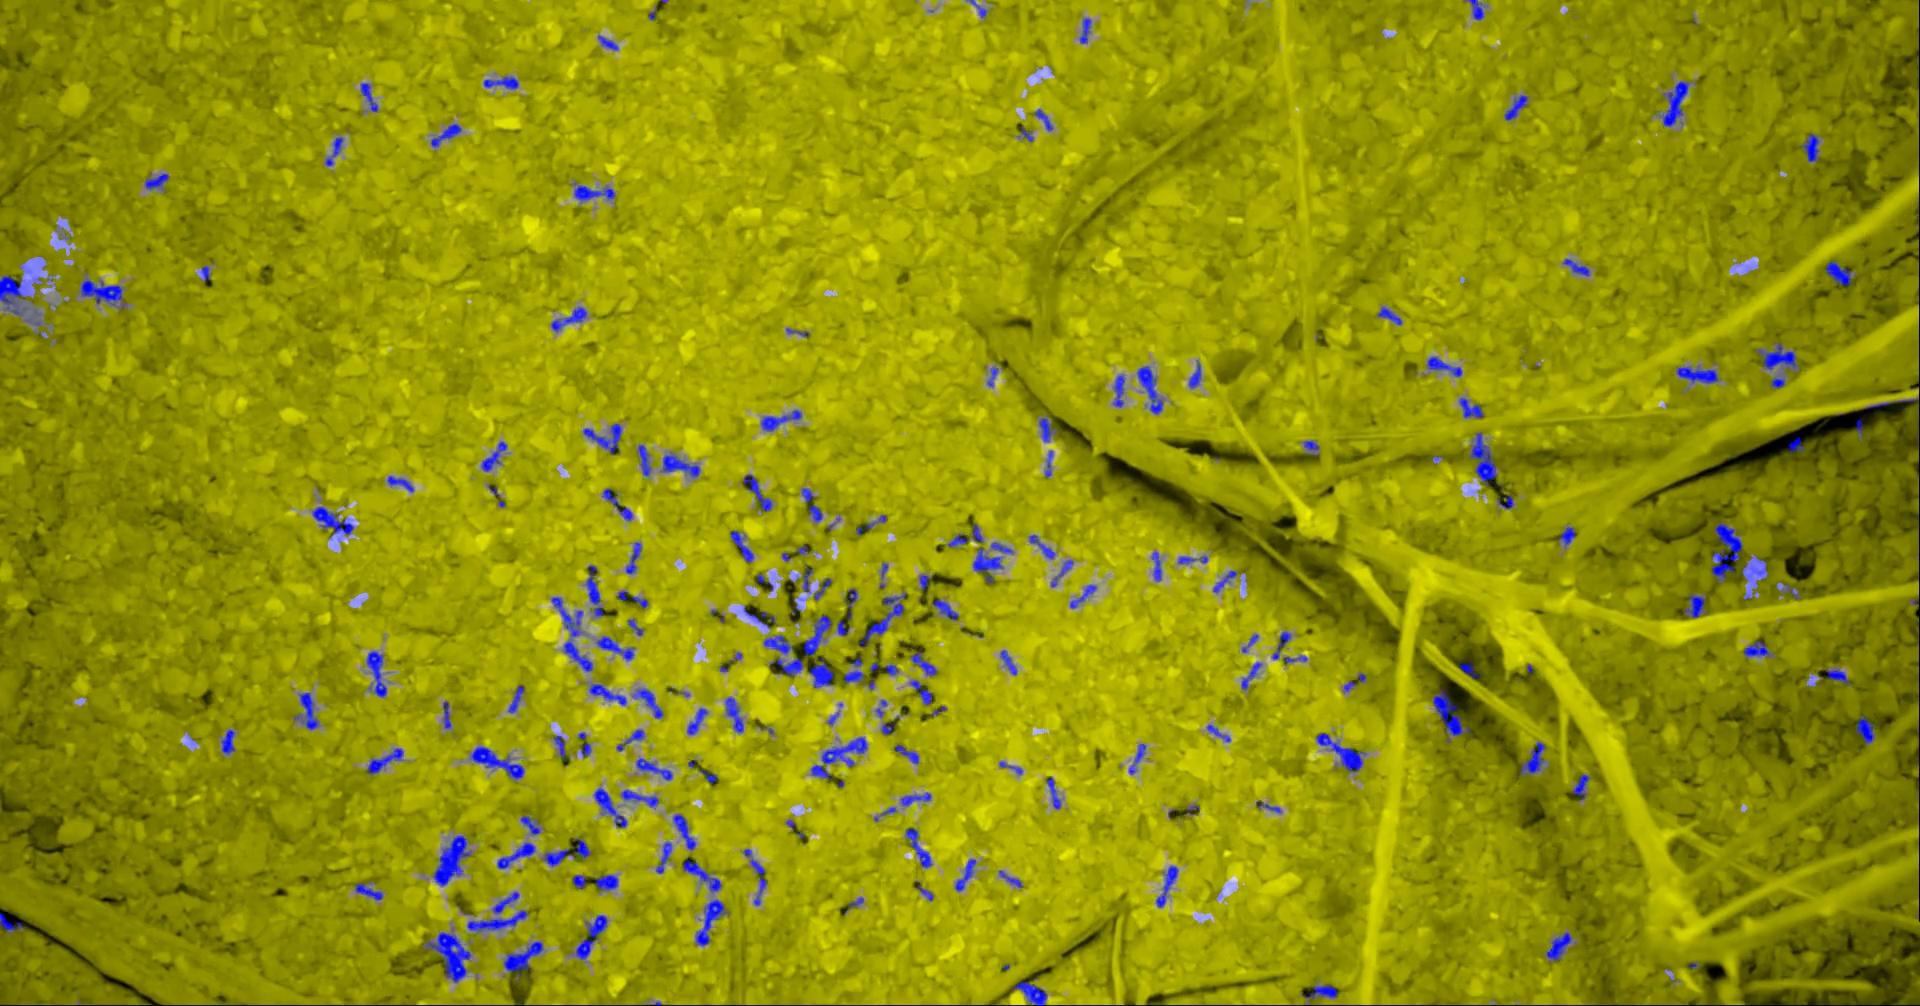ant: (858, 592, 905, 645), (1864, 398, 1919, 439), (425, 932, 470, 982), (1316, 732, 1365, 772), (1710, 521, 1742, 582), (432, 835, 470, 885), (470, 746, 524, 779), (1432, 688, 1469, 735), (503, 941, 543, 979), (695, 898, 726, 945), (1469, 432, 1496, 485), (575, 915, 607, 959), (822, 737, 866, 767), (311, 506, 353, 537), (466, 909, 527, 931), (543, 838, 590, 866), (593, 788, 626, 827), (682, 859, 721, 890), (551, 596, 582, 636), (1662, 80, 1689, 126), (582, 423, 621, 453), (1137, 366, 1162, 413), (803, 614, 830, 655), (971, 547, 1003, 583), (80, 278, 122, 305), (1756, 342, 1796, 370), (742, 474, 771, 511), (905, 827, 931, 868), (601, 488, 632, 520), (0, 276, 25, 314), (497, 842, 535, 868), (1156, 865, 1178, 907), (366, 650, 386, 697), (366, 748, 403, 774), (1519, 741, 1545, 775), (759, 409, 801, 431), (550, 306, 585, 332), (585, 565, 603, 616), (563, 640, 592, 671), (596, 636, 632, 661), (293, 692, 317, 729), (1011, 981, 1046, 1005), (632, 688, 662, 718), (662, 453, 698, 476), (635, 757, 672, 780), (588, 683, 626, 705), (672, 814, 695, 848), (808, 657, 833, 687), (729, 530, 753, 561), (1676, 366, 1718, 384), (1545, 932, 1571, 962), (430, 123, 461, 147), (481, 441, 505, 471), (743, 605, 775, 627), (1426, 356, 1462, 376), (750, 857, 766, 904), (954, 857, 975, 890), (801, 486, 822, 521), (573, 185, 615, 202), (621, 789, 658, 807), (1825, 260, 1851, 285), (1069, 584, 1096, 608), (770, 657, 803, 676), (1503, 94, 1528, 119), (1029, 533, 1054, 558), (910, 652, 937, 674), (725, 697, 743, 732), (491, 890, 518, 913), (616, 729, 644, 751), (617, 589, 648, 608), (1239, 662, 1261, 688), (686, 708, 707, 734), (909, 680, 932, 704), (843, 657, 863, 683), (1128, 743, 1145, 774), (1271, 631, 1290, 659), (1855, 715, 1874, 743), (1683, 594, 1705, 617), (1211, 570, 1236, 592), (324, 136, 342, 165), (763, 635, 792, 653), (1801, 133, 1818, 161), (507, 685, 524, 713), (354, 882, 382, 899), (0, 911, 23, 932), (932, 600, 957, 619), (893, 744, 918, 763), (1045, 776, 1060, 808), (655, 841, 670, 873), (1562, 258, 1589, 276), (625, 542, 640, 573), (361, 83, 377, 111), (1304, 984, 1337, 998), (1459, 398, 1483, 417), (1037, 417, 1057, 441), (483, 76, 518, 89), (1749, 556, 1768, 579), (1377, 306, 1401, 324), (387, 475, 413, 492), (1743, 639, 1769, 655), (1572, 774, 1589, 799), (1032, 108, 1051, 130), (637, 445, 650, 476), (143, 173, 168, 189), (1206, 724, 1230, 741), (998, 870, 1022, 887), (900, 793, 931, 805), (813, 578, 830, 600), (1112, 373, 1124, 406), (1001, 650, 1016, 674), (220, 729, 234, 754), (594, 874, 617, 889), (1557, 526, 1575, 545), (521, 815, 538, 835), (1825, 669, 1849, 683), (577, 732, 590, 756), (1458, 662, 1479, 677), (847, 588, 857, 620), (810, 763, 830, 779), (1189, 361, 1200, 387), (597, 36, 618, 50), (1150, 551, 1161, 580), (1787, 436, 1804, 452), (1468, 0, 1483, 19), (855, 521, 875, 535), (552, 735, 565, 757), (1079, 17, 1090, 43), (698, 768, 717, 782), (947, 533, 968, 546), (1255, 801, 1280, 812), (1058, 559, 1073, 575), (627, 619, 643, 635), (1303, 439, 1318, 455), (1177, 555, 1208, 563), (1496, 494, 1512, 508), (803, 567, 811, 592), (990, 542, 1012, 553), (836, 620, 850, 635), (442, 701, 450, 728), (571, 874, 585, 888), (971, 523, 982, 542), (919, 574, 932, 589), (1045, 450, 1051, 478), (1770, 376, 1784, 387), (881, 723, 893, 734), (885, 664, 898, 674)
